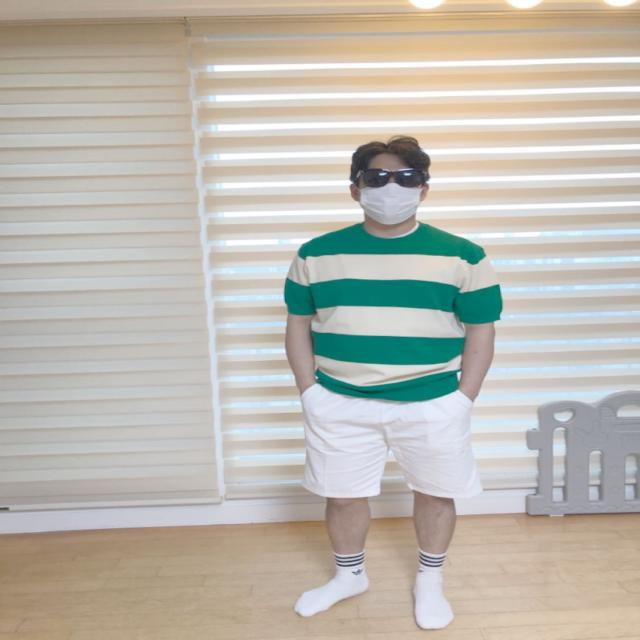shortpants: (302, 382, 480, 500)
shortsleeve: (282, 214, 505, 401)
